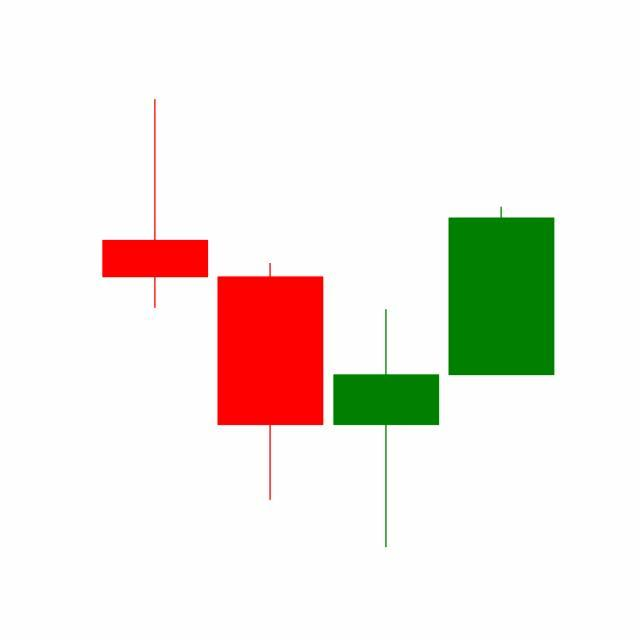Spinning Top: (329, 307, 445, 551)
